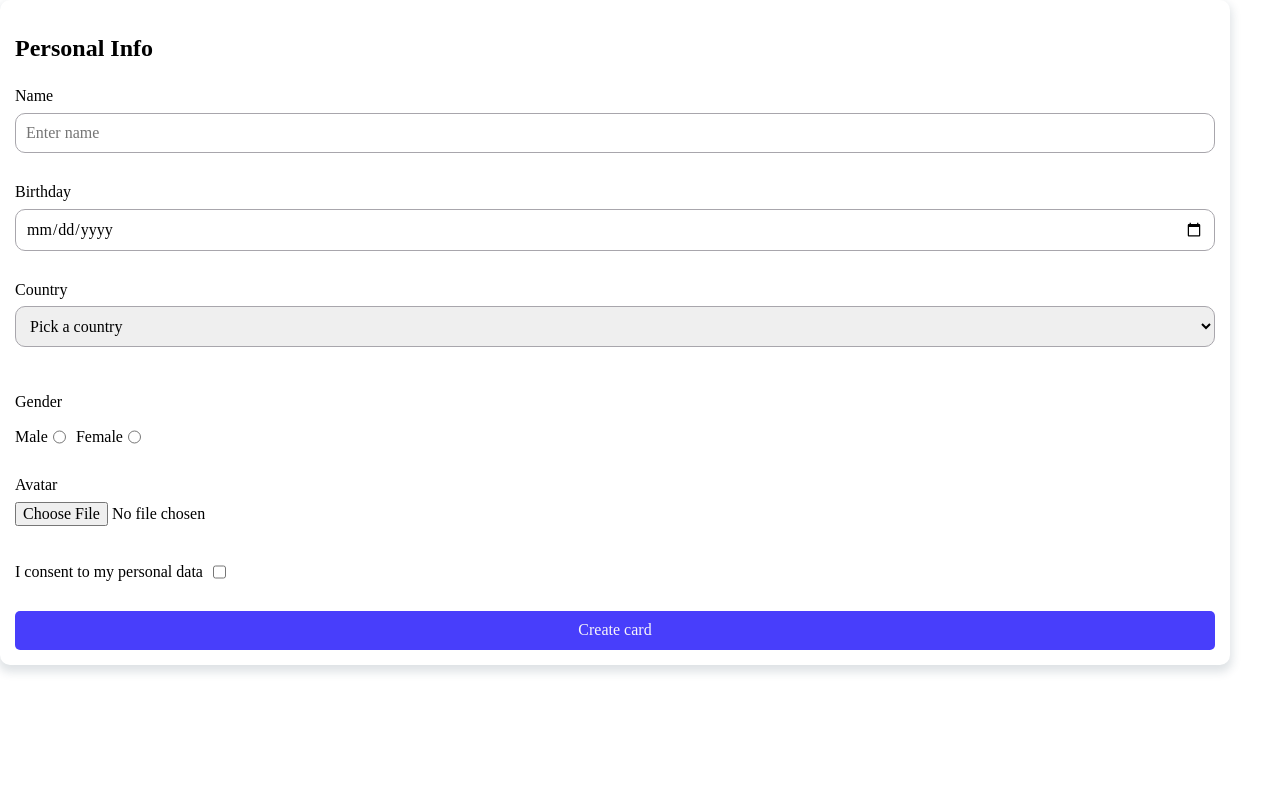
Scenario: Form › it should display error messages when creating a card with incomplete form data
Step 1. Click the button "Create card" → (615,630), box [15,611,1215,650]
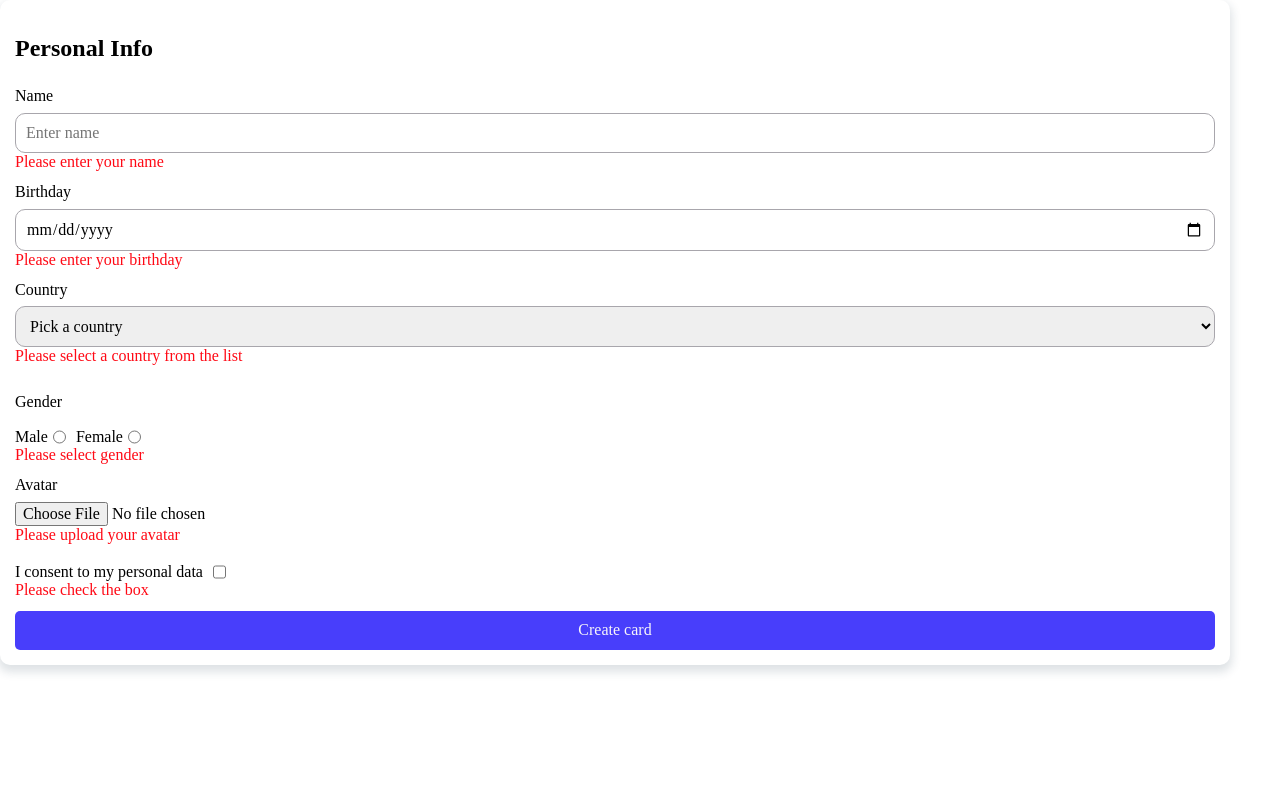
Result: the text "Please enter your name" is shown at [15,153,164,172]
Result: the text "Please enter your birthday" is shown at [15,251,182,269]
Result: the text "Please select a country from the list" is shown at [15,347,242,366]
